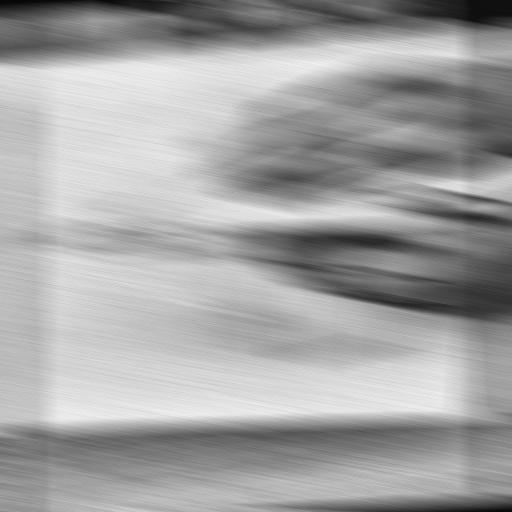boat: (7, 107, 443, 374)
bottom_left: (0, 55, 36, 70)
bottom_right: (466, 410, 503, 424)
top_right: (0, 422, 35, 437)
